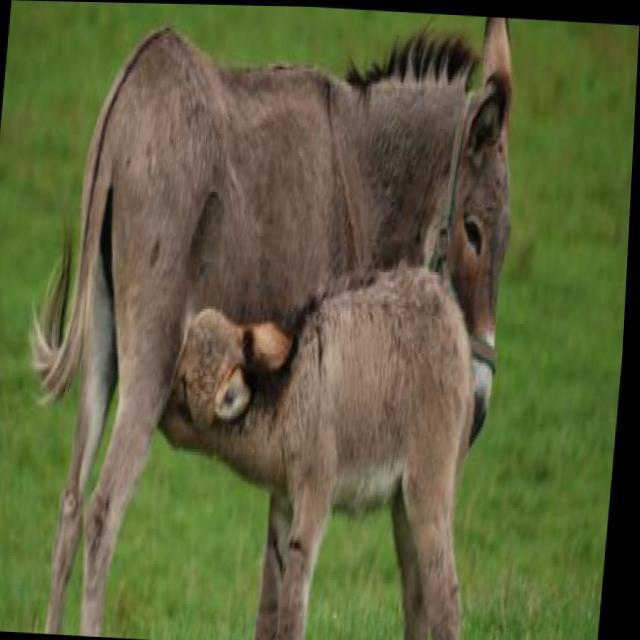Donkey: (13, 1, 527, 640), (146, 251, 495, 640)
